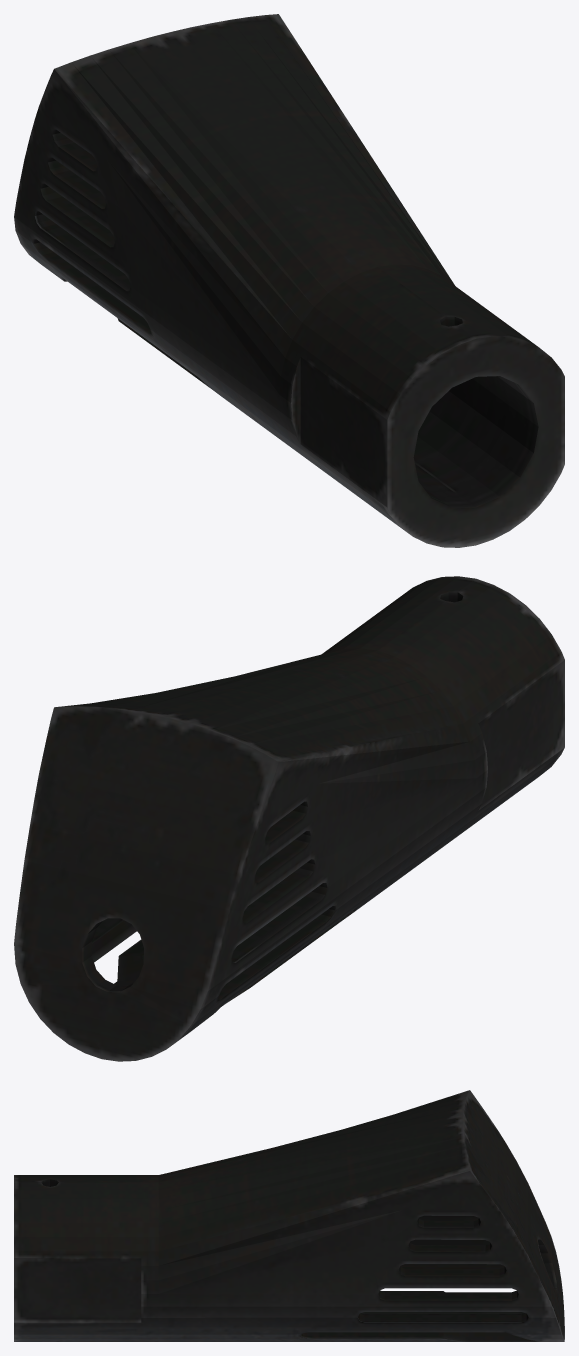
3 renders of one model, top to bottom at view 1: azimuth 30°, elevation 25°; view 2: azimuth 150°, elevation 25°; view 3: azimuth 270°, elevation 25°, orthographic. The views are drawn at different scales.
Visible parts, largest first — view 1: TW_64943b74e9998d641b0412ed_PZ_Import; view 2: TW_64943b74e9998d641b0412ed_PZ_Import; view 3: TW_64943b74e9998d641b0412ed_PZ_Import.
Boxes of the visible parts, x1=… form: TW_64943b74e9998d641b0412ed_PZ_Import: x1=14, y1=14, x2=564, y2=547; TW_64943b74e9998d641b0412ed_PZ_Import: x1=14, y1=576, x2=564, y2=1061; TW_64943b74e9998d641b0412ed_PZ_Import: x1=14, y1=1090, x2=564, y2=1341.
Bounding box in the file's own units: 0.0132 × 0.0382 × 0.0163.
Materials: 1 (1 with a texture image).
